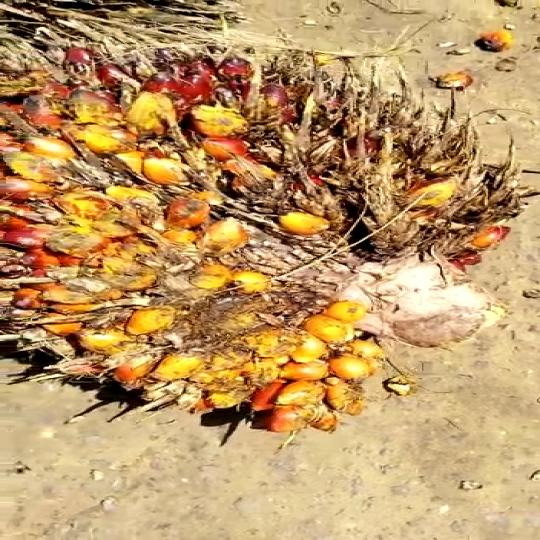masak: (0, 38, 540, 439)
